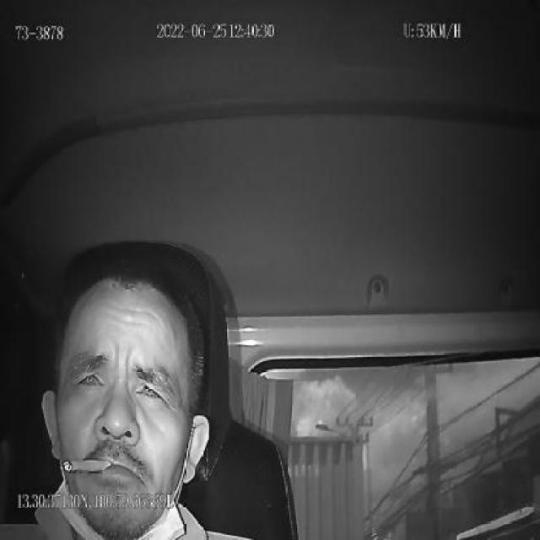smoking: (62, 457, 112, 475)
